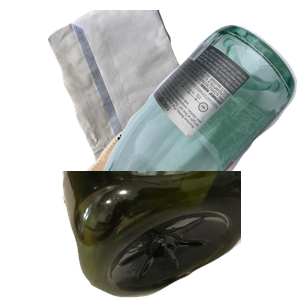glass: (86, 22, 300, 202)
paper: (45, 10, 251, 190)
plastic: (60, 171, 300, 300)
trash: (59, 124, 273, 300)
